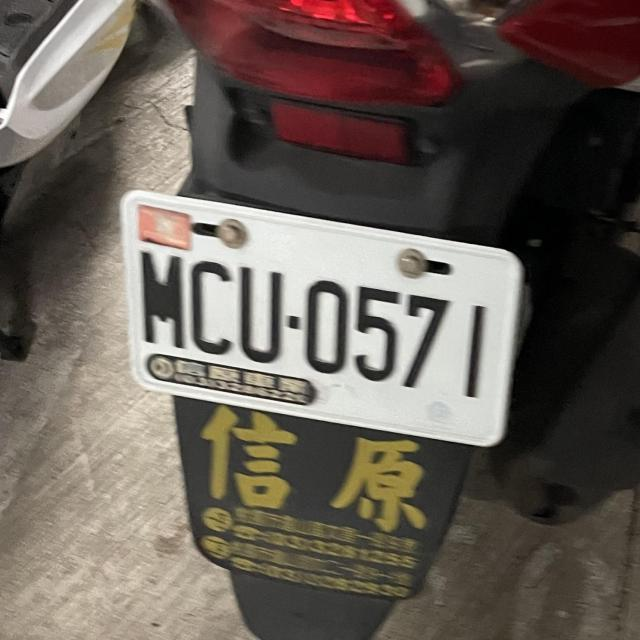W: (102, 187, 536, 446)
